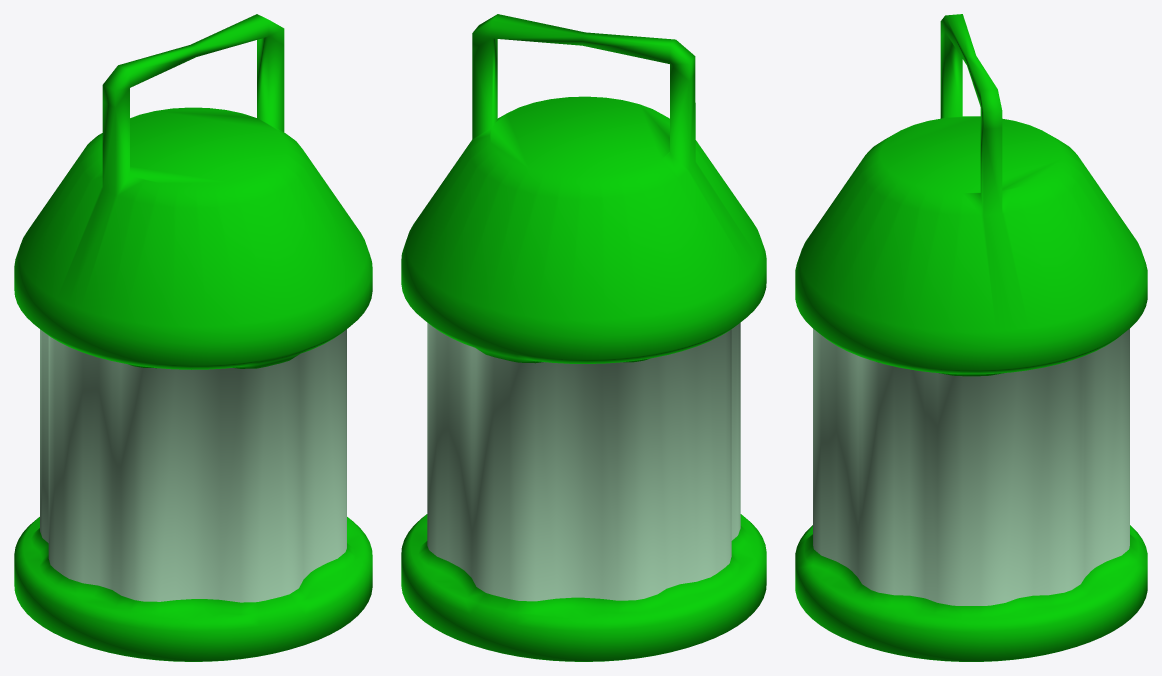
Rendered from lantern.obj.
3 views of the same model, side by side, from view 1: azimuth 30°, elevation 25°; view 2: azimuth 150°, elevation 25°; view 3: azimuth 270°, elevation 25° (orthographic). The views are drawn at different scales.
Parts seen in each view (by area): view 1: Cylinder; view 2: Cylinder; view 3: Cylinder.
Part boxes in pixels (left/top/right/bottom): Cylinder: left=14, top=14, right=372, bottom=661; Cylinder: left=401, top=14, right=766, bottom=661; Cylinder: left=795, top=14, right=1147, bottom=661.
Bounding box in the file's own units: 1.99 × 3.35 × 1.99.
